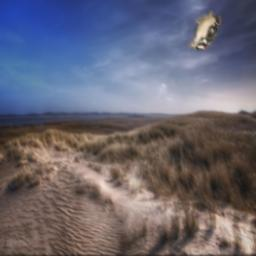Woodpecker: (188, 10, 221, 50)
